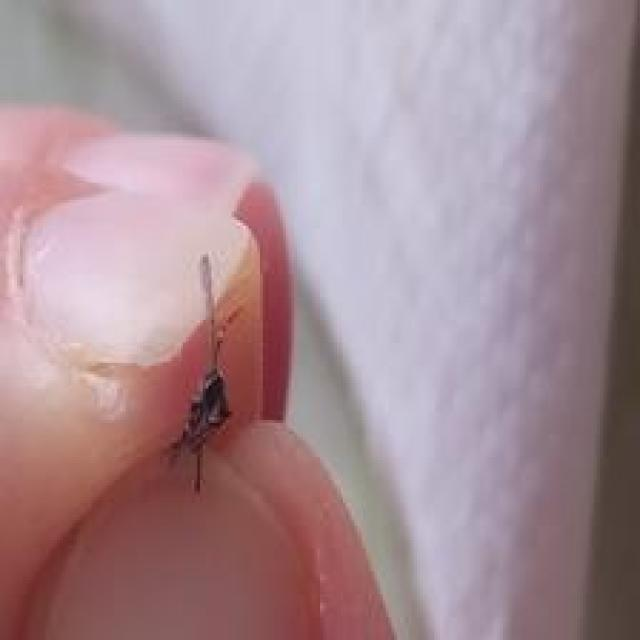Aedes albopictus: (161, 252, 236, 494)
